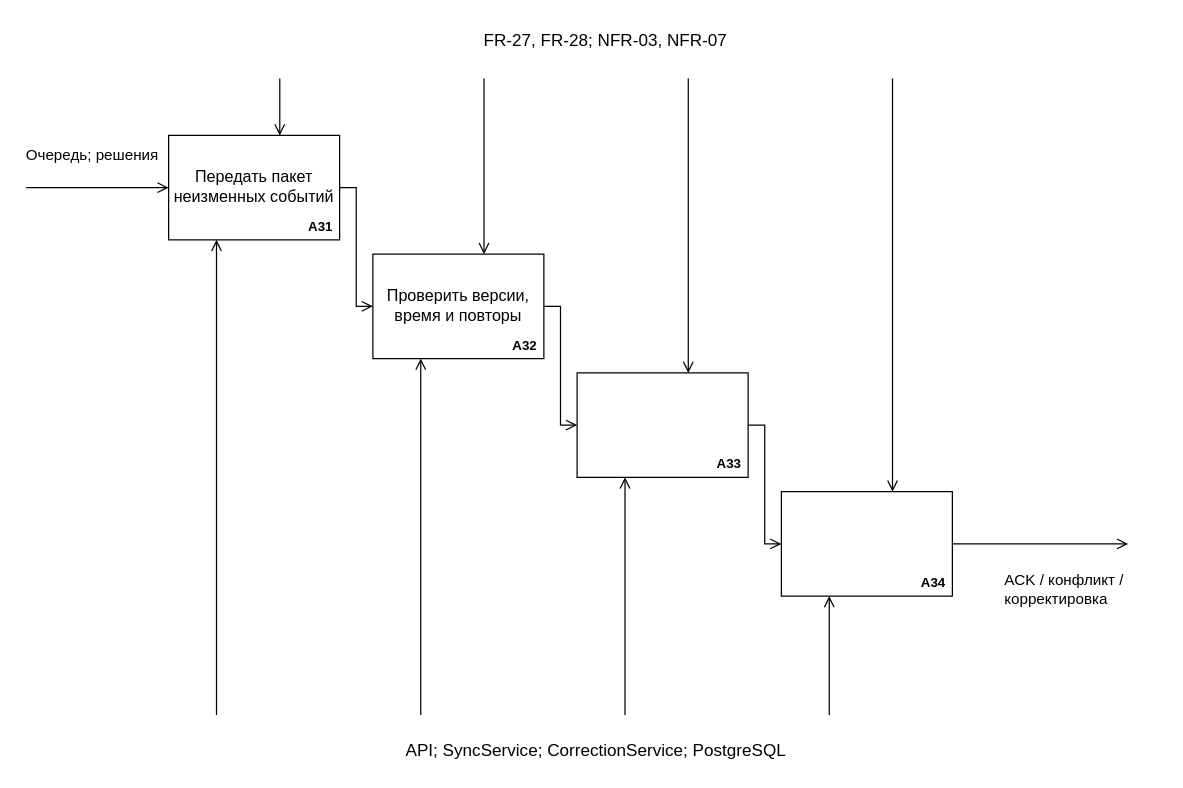
Image size: 1183x788. Some labels were removed from this diagram. Here are the shapes that lost their labels. From the top down, the box of each, then its label:
(576, 372, 748, 478): Сохранить ACK либо конфликт
(780, 491, 953, 596): Применить решение и записать аудит
